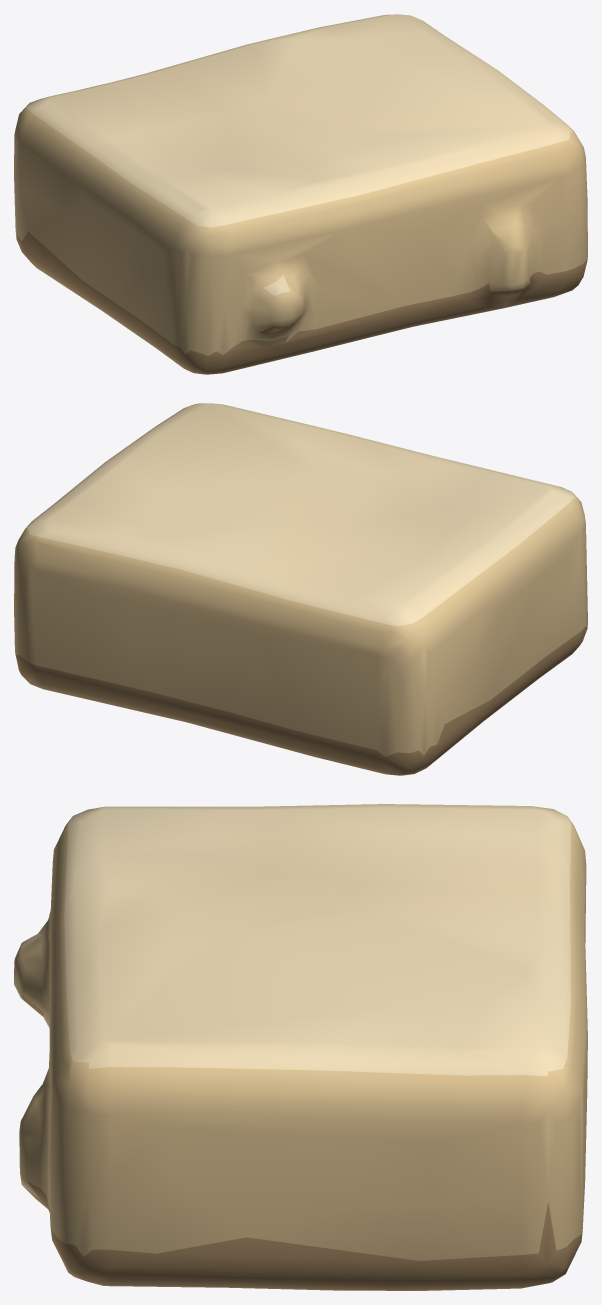
The model's file is shore_sand_step.glb.
3 views of the same model, one above another, from view 1: azimuth 30°, elevation 25°; view 2: azimuth 150°, elevation 25°; view 3: azimuth 270°, elevation 25° (orthographic). The views are drawn at different scales.
Visible parts, largest first — view 1: shore_sand_step; view 2: shore_sand_step; view 3: shore_sand_step.
Part boxes in pixels (box(x1,y1,x2,y2)): shore_sand_step: box(14, 14, 587, 374); shore_sand_step: box(14, 403, 587, 775); shore_sand_step: box(14, 804, 587, 1290).
Bounding box in the file's own units: 3.06 × 1.23 × 2.59.
